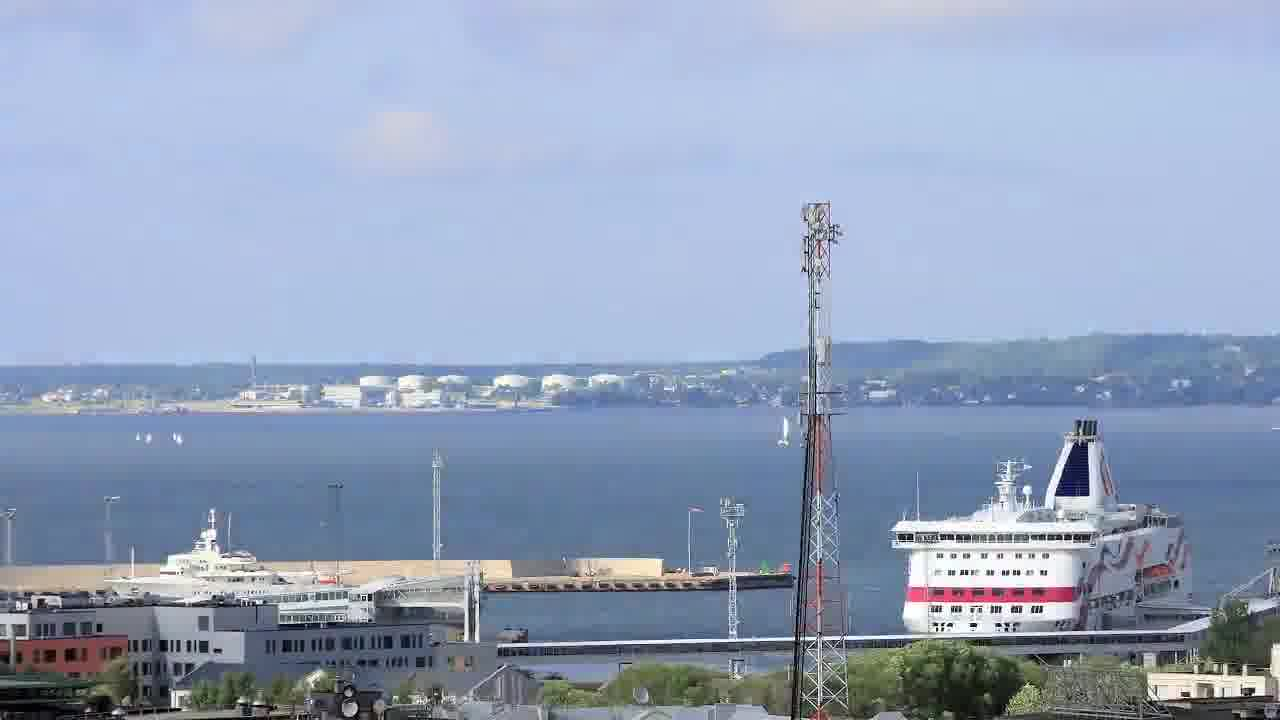type-2: (743, 402, 799, 467)
type-3: (868, 415, 1225, 638), (84, 537, 359, 610)
